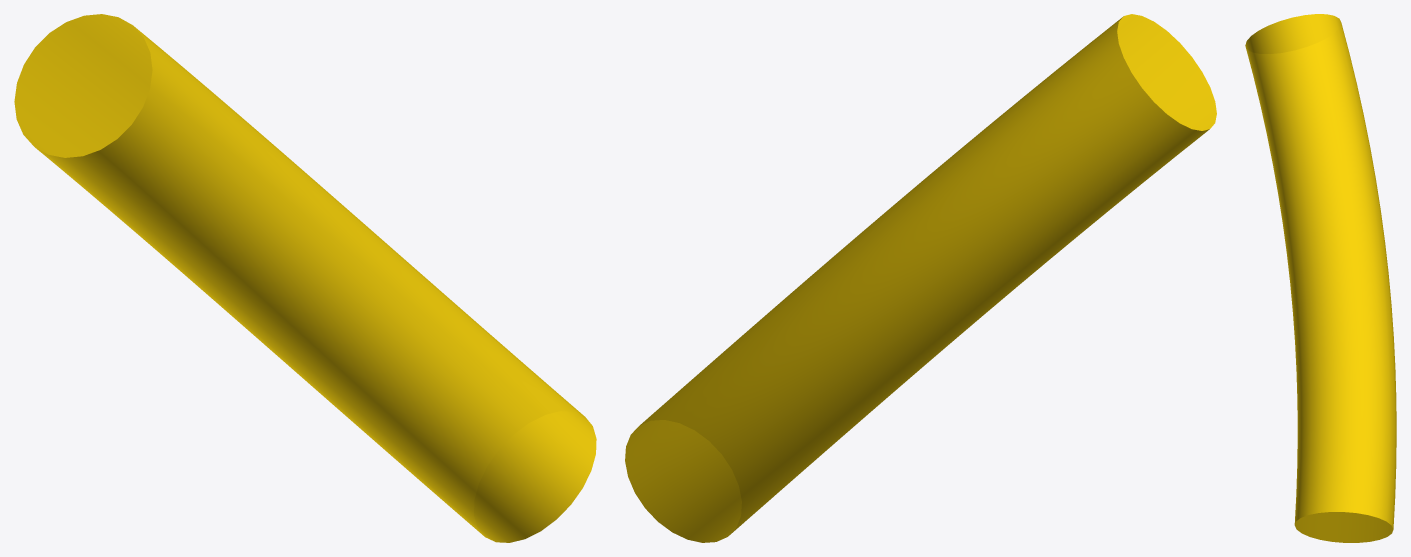
File: Event_421364160_track_68.fbx
3 renders of one model, left to right at view 1: azimuth 30°, elevation 25°; view 2: azimuth 150°, elevation 25°; view 3: azimuth 270°, elevation 25°, orthographic. The views are drawn at different scales.
Visible parts, largest first — view 1: Model; view 2: Model; view 3: Model.
Boxes of the visible parts, x1=… form: Model: x1=14, y1=14, x2=596, y2=542; Model: x1=625, y1=14, x2=1216, y2=542; Model: x1=1245, y1=14, x2=1396, y2=542.
Bounding box in the file's own units: 0.1742 × 0.1805 × 0.0612.
